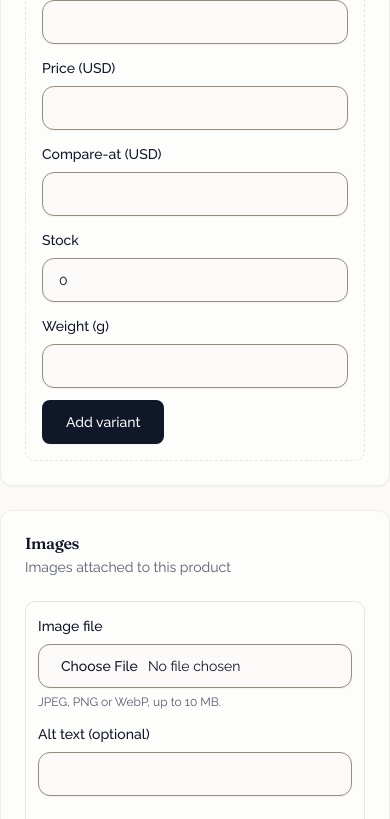
Test: ProductEditor › asks for a choice for every option before adding a variant
(page scrolled)
Click the button "Add variant": click(103, 422) [42,400,164,444]
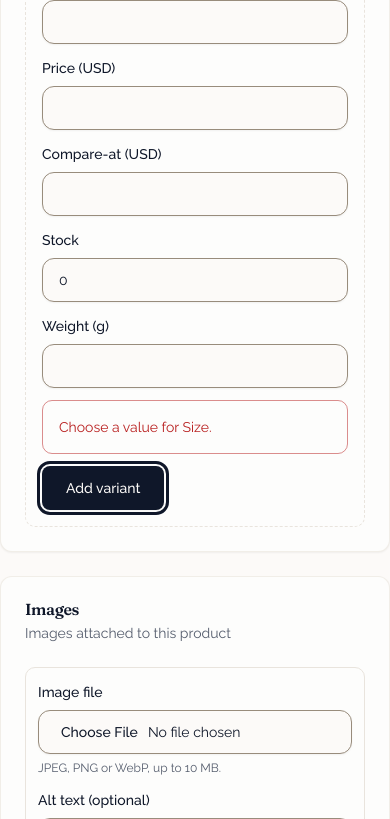
Expected: the text "Choose a value for Size." is shown, [59,419,212,435]
